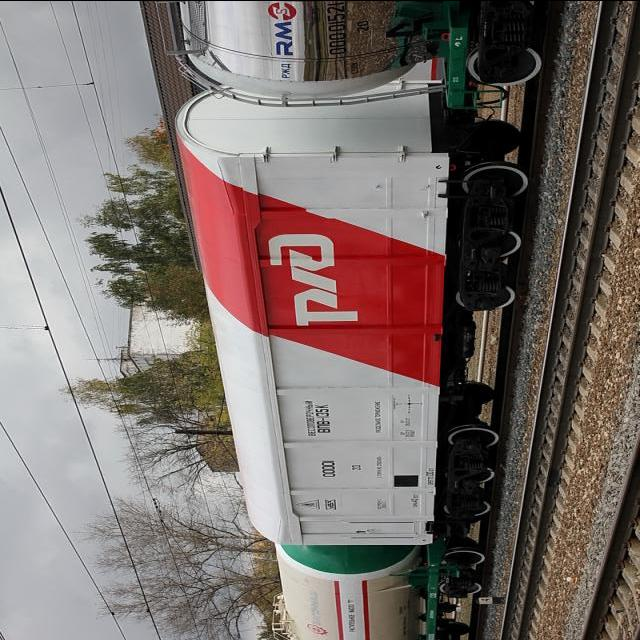wagon: (319, 0, 351, 55), (319, 457, 337, 478)
